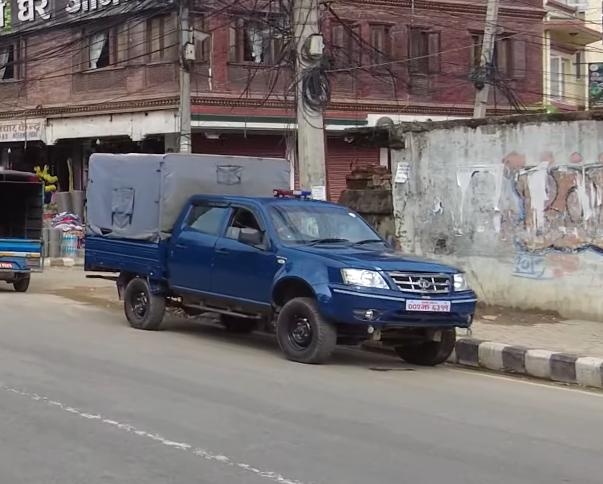police_vehicle: (82, 143, 484, 379)
